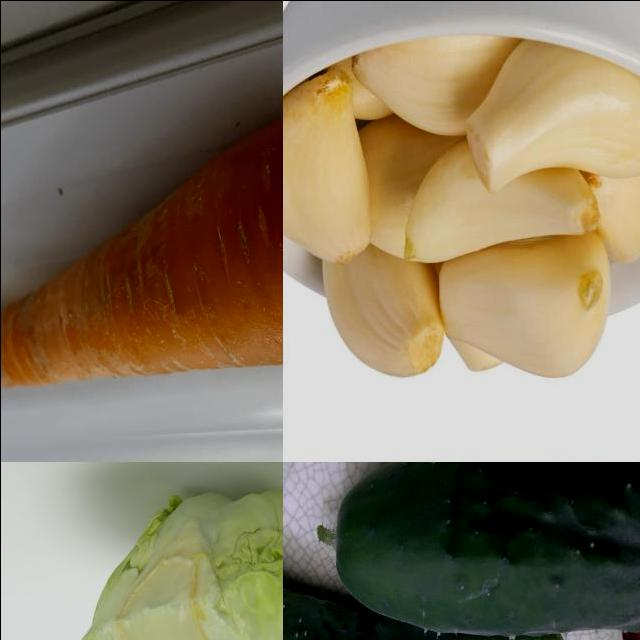cabbage: (75, 484, 283, 640)
carrot: (1, 116, 283, 406)
cucumber: (325, 462, 640, 634), (283, 573, 569, 640)
garlic: (283, 23, 640, 380)
